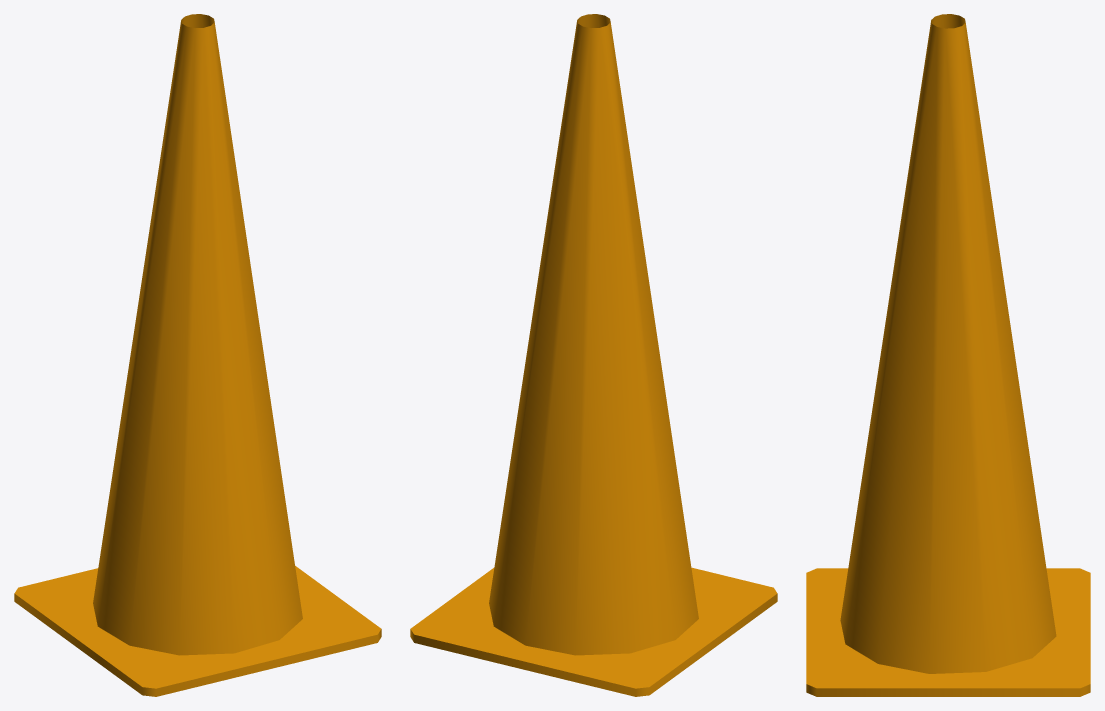
3 views of the same model, side by side, from view 1: azimuth 30°, elevation 25°; view 2: azimuth 150°, elevation 25°; view 3: azimuth 270°, elevation 25° (orthographic). The views are drawn at different scales.
Parts seen in each view (by area): view 1: Component_51 (×2); view 2: Component_51 (×2); view 3: Component_51 (×2).
Part boxes in pixels (<box>): Component_51 (×2): <box>14,14,381,696</box>; Component_51 (×2): <box>410,14,777,696</box>; Component_51 (×2): <box>806,14,1090,696</box>.
Bounding box in the file's own units: 14.5 × 14.5 × 34.68.
